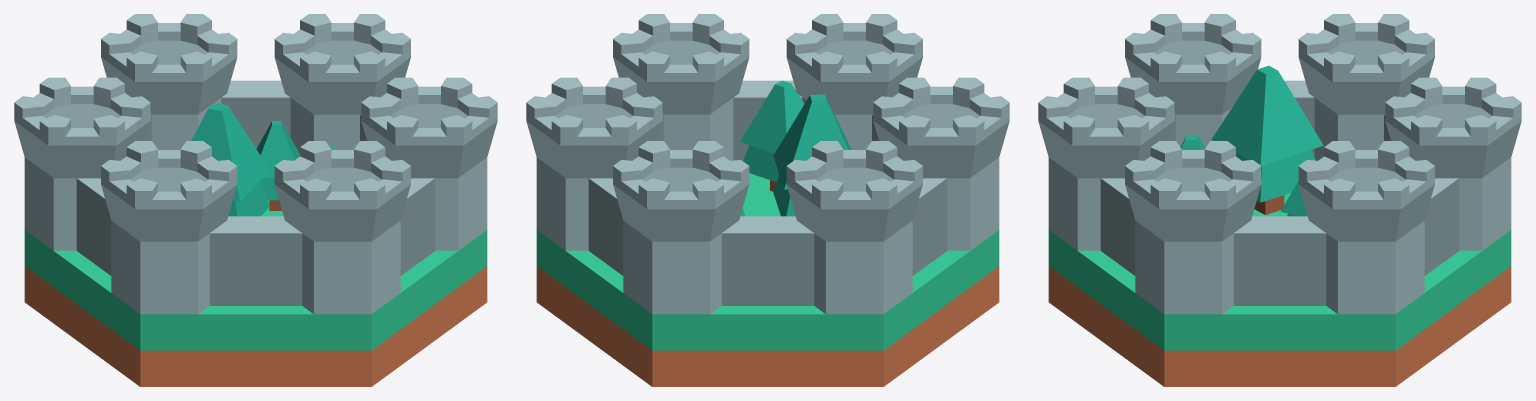
The model's file is building_castle.dae.
3 renders of one model, left to right at view 1: azimuth 30°, elevation 25°; view 2: azimuth 150°, elevation 25°; view 3: azimuth 270°, elevation 25°, orthographic.
Parts seen in each view (by area): view 1: tower (×6), building_castle, wall, tree (×2); view 2: tower (×6), building_castle, wall, tree (×2); view 3: tower (×6), building_castle, wall, tree (×2).
Part boxes in pixels (box(x1,y1,x2,y2)): tower (×6): box(14, 14, 497, 314); building_castle: box(24, 200, 487, 386); wall: box(76, 80, 435, 305); tree (×2): box(191, 103, 299, 216); tower (×6): box(526, 14, 1009, 314); building_castle: box(536, 173, 999, 386); wall: box(588, 80, 947, 305); tree (×2): box(740, 80, 851, 216); tower (×6): box(1038, 14, 1521, 314); building_castle: box(1048, 193, 1511, 386); wall: box(1100, 80, 1459, 305); tree (×2): box(1211, 65, 1323, 216).
Size of the model in its own units: 1.04 by 0.58 by 1.21.
